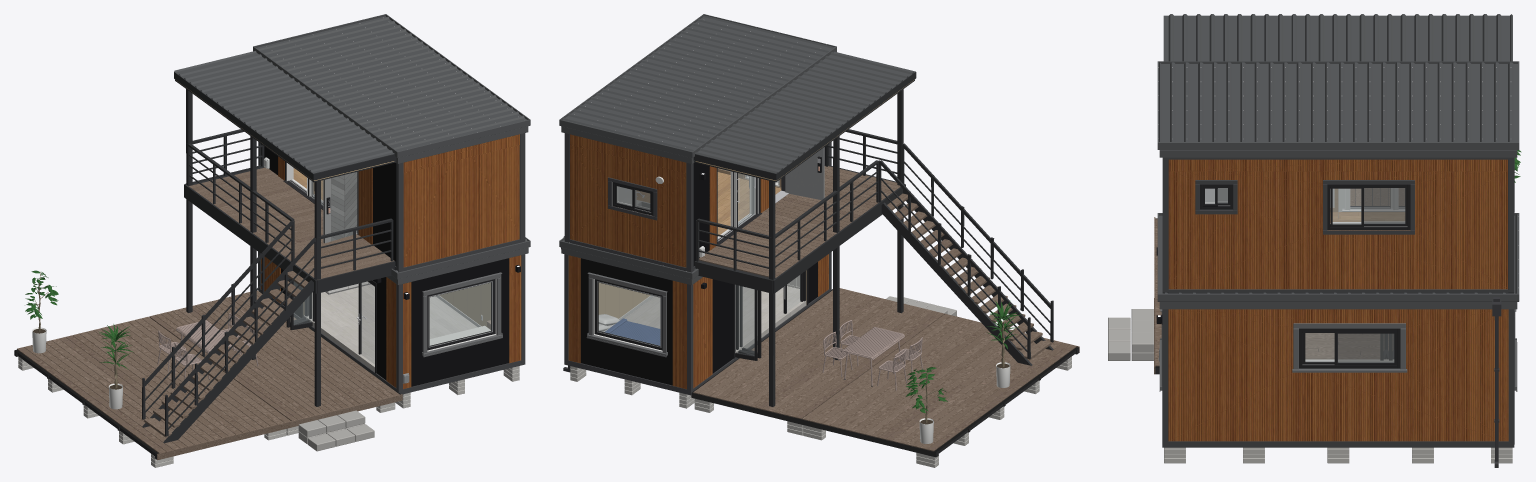
Rendered from twin-10-2f.glb.
3 renders of one model, left to right at view 1: azimuth 30°, elevation 25°; view 2: azimuth 150°, elevation 25°; view 3: azimuth 270°, elevation 25°, orthographic. The views are drawn at different scales.
Visible parts, largest first — view 1: 지붕_TD_RoofSheetSilver, TD_DeckEmboss, 2층_TD_WoodSiding, 계단_스틸, 2층_TD_DeckEmboss, 2층_계단_스틸, TD_BlackSiding, TD_FloorGray, TD_GlassFix, TD_WoodSiding, TD_TrimGray, 2층_TD_TrimGray (+15 smaller); view 2: 지붕_TD_RoofSheetSilver, TD_DeckEmboss, 계단_스틸, 2층_TD_WoodSiding, 2층_TD_DeckEmboss, 2층_계단_스틸, TD_BlackSiding, TD_WoodSiding, TD_GlassFix, TD_FurnTaupe, TD_FloorGray, 2층_TD_TrimGray (+20 smaller); view 3: 지붕_TD_RoofSheetSilver, TD_WoodSiding, 2층_TD_WoodSiding, 2층_TD_RoofSheetSilver, 2층_TD_TrimGray, 지붕_TD_WoodSiding, TD_TrimGray, 2층_TD_GlassFix, TD_DeckEmboss, TD_GlassFix, TD_WinSurround, TD_StepBlock (+10 smaller).
Part boxes in pixels (bbox=[...]): 지붕_TD_RoofSheetSilver: bbox=[174, 14, 530, 173]; TD_DeckEmboss: bbox=[17, 290, 402, 460]; 2층_TD_WoodSiding: bbox=[278, 145, 519, 267]; 계단_스틸: bbox=[142, 89, 320, 443]; 2층_TD_DeckEmboss: bbox=[189, 167, 394, 305]; 2층_계단_스틸: bbox=[184, 129, 395, 293]; TD_BlackSiding: bbox=[281, 258, 509, 386]; TD_FloorGray: bbox=[303, 284, 477, 371]; TD_GlassFix: bbox=[294, 281, 490, 363]; TD_WoodSiding: bbox=[261, 255, 521, 388]; TD_TrimGray: bbox=[258, 252, 525, 394]; 2층_TD_TrimGray: bbox=[258, 133, 525, 272]; 지붕_TD_RoofSheetSilver: bbox=[559, 14, 915, 173]; TD_DeckEmboss: bbox=[693, 220, 1079, 451]; 계단_스틸: bbox=[769, 89, 1053, 406]; 2층_TD_WoodSiding: bbox=[570, 145, 768, 267]; 2층_TD_DeckEmboss: bbox=[699, 166, 927, 277]; 2층_계단_스틸: bbox=[694, 129, 905, 293]; TD_BlackSiding: bbox=[580, 258, 817, 385]; TD_WoodSiding: bbox=[568, 254, 828, 389]; TD_GlassFix: bbox=[599, 275, 800, 355]; TD_FurnTaupe: bbox=[822, 320, 923, 390]; TD_FloorGray: bbox=[624, 285, 806, 352]; 2층_TD_TrimGray: bbox=[564, 133, 831, 272]; 지붕_TD_RoofSheetSilver: bbox=[1157, 14, 1519, 157]; TD_WoodSiding: bbox=[1168, 309, 1508, 441]; 2층_TD_WoodSiding: bbox=[1168, 171, 1507, 289]; 2층_TD_RoofSheetSilver: bbox=[1157, 213, 1519, 309]; 2층_TD_TrimGray: bbox=[1162, 157, 1514, 293]; 지붕_TD_WoodSiding: bbox=[1168, 159, 1507, 171]; TD_TrimGray: bbox=[1162, 309, 1514, 447]; 2층_TD_GlassFix: bbox=[1205, 188, 1404, 224]; TD_DeckEmboss: bbox=[1154, 217, 1388, 374]; TD_GlassFix: bbox=[1305, 333, 1393, 362]; TD_WinSurround: bbox=[1159, 309, 1517, 391]; TD_StepBlock: bbox=[1108, 309, 1153, 360].
Size of the model in its own units: 9.75 by 6.39 by 7.35.
105 materials, 15 textured.
